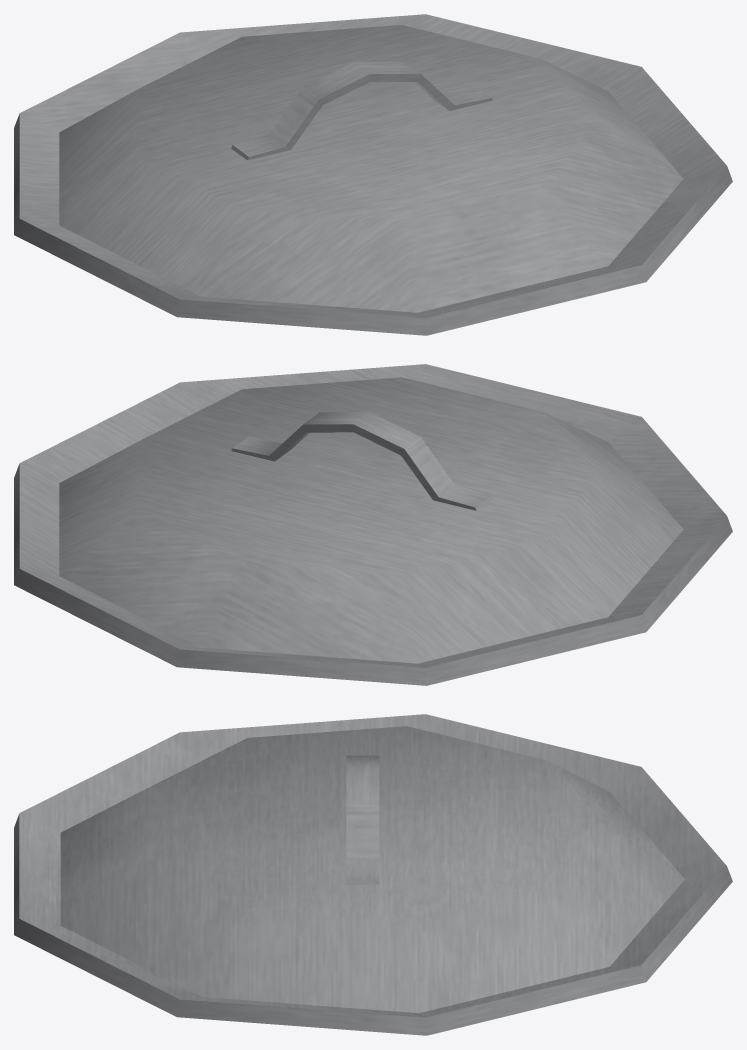
File: Pot_lid.glb
3 views of the same model, one above another, from view 1: azimuth 30°, elevation 25°; view 2: azimuth 150°, elevation 25°; view 3: azimuth 270°, elevation 25° (orthographic).
Visible parts, largest first — view 1: Pot_lid; view 2: Pot_lid; view 3: Pot_lid.
Boxes of the visible parts, x1=… form: Pot_lid: x1=14, y1=14, x2=732, y2=335; Pot_lid: x1=14, y1=364, x2=732, y2=685; Pot_lid: x1=14, y1=714, x2=732, y2=1035.
Bounding box in the file's own units: 0.4204 × 0.0823 × 0.414.
Materials: 1 (1 with a texture image).
